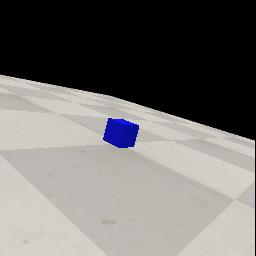box: (103, 118, 139, 148)
